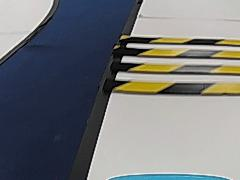bump: (111, 27, 238, 99)
